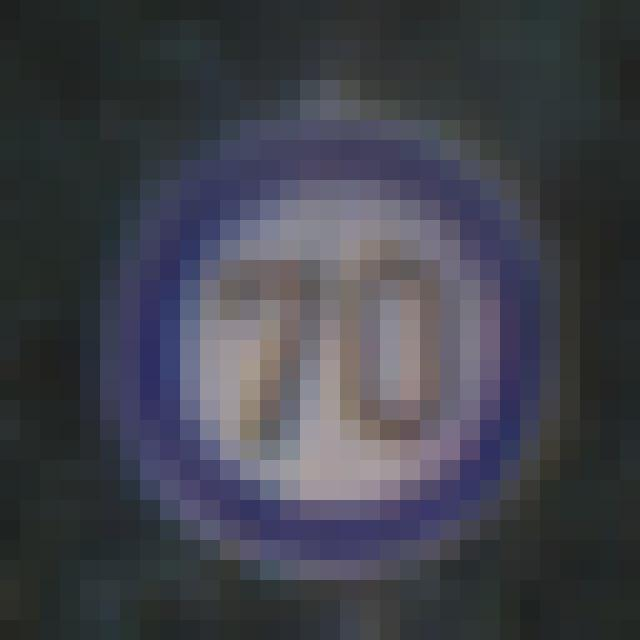SPEED LIMIT 70: (105, 113, 569, 572)
